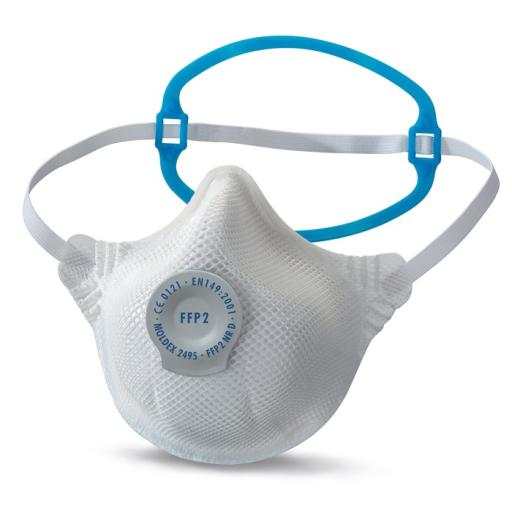mask: (19, 156, 438, 462)
